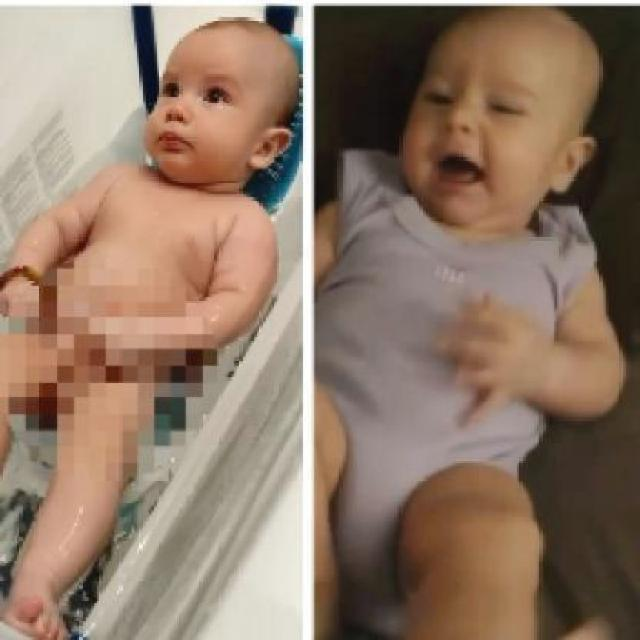child: (311, 5, 626, 638), (3, 14, 297, 637)
